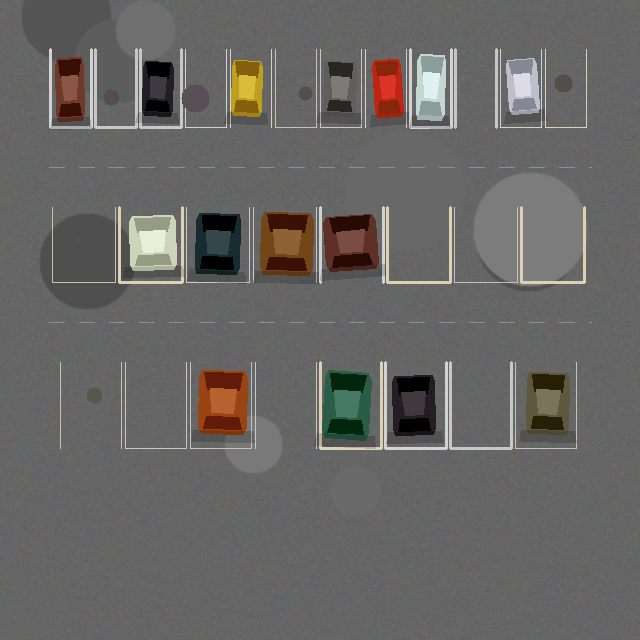space-empty: (60, 362, 121, 448), (125, 362, 186, 448), (255, 362, 316, 448), (450, 362, 511, 448), (52, 207, 115, 282), (387, 207, 450, 282), (454, 207, 517, 282), (521, 207, 584, 282), (95, 49, 136, 127), (185, 49, 226, 127), (275, 49, 316, 127), (455, 49, 496, 127), (545, 49, 586, 127)
space-occupied: (190, 362, 251, 448), (320, 362, 381, 448), (385, 362, 446, 448), (515, 362, 576, 448), (119, 207, 182, 282), (186, 207, 249, 282), (253, 207, 316, 282), (320, 207, 383, 282), (50, 49, 91, 127), (140, 49, 181, 127), (230, 49, 271, 127), (320, 49, 361, 127), (365, 49, 406, 127), (410, 49, 451, 127), (500, 49, 541, 127)
